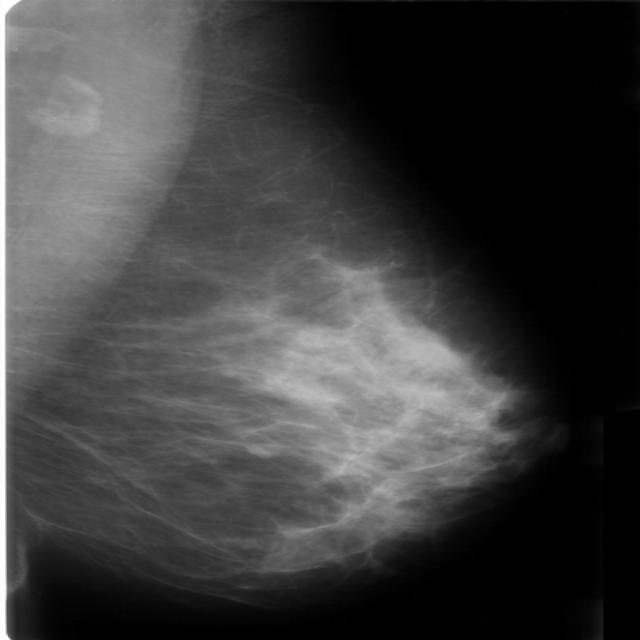tumour: (242, 438, 272, 456)
